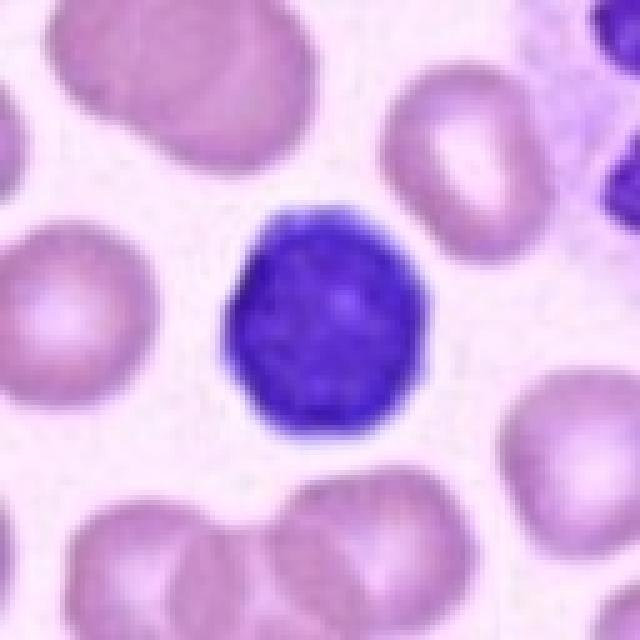lympho: (213, 202, 430, 444)
